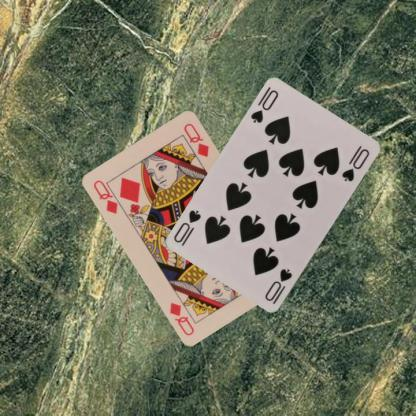10s: (262, 266, 294, 307), (248, 87, 280, 125)
Qd: (91, 178, 127, 216)
